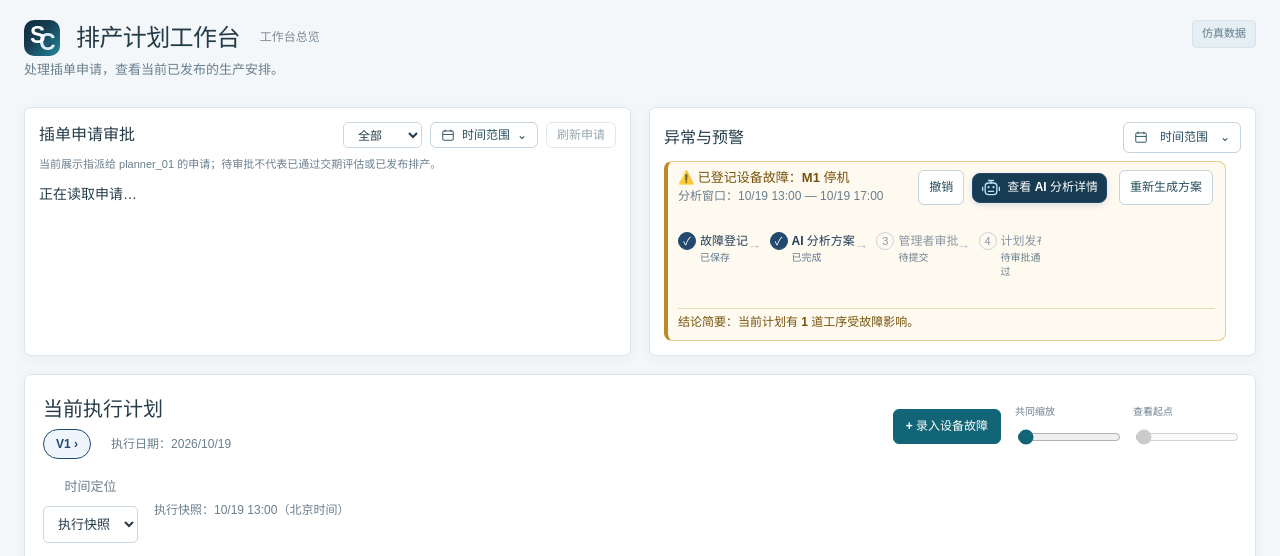
Test case: shows the saved analysis time and Trace for the same fault revision as the chain title
The width and height of the screenshot is (1280, 556).
Expected: the list item with aria-label "AI 分析方案：已完成" is shown, [770,232,868,266]
Expected: the list item with aria-label "管理者审批：待提交" is shown, [876,232,970,266]
Click the button "查看 AI 分析详情".
click(1040, 188)  # box [972,173,1107,203]
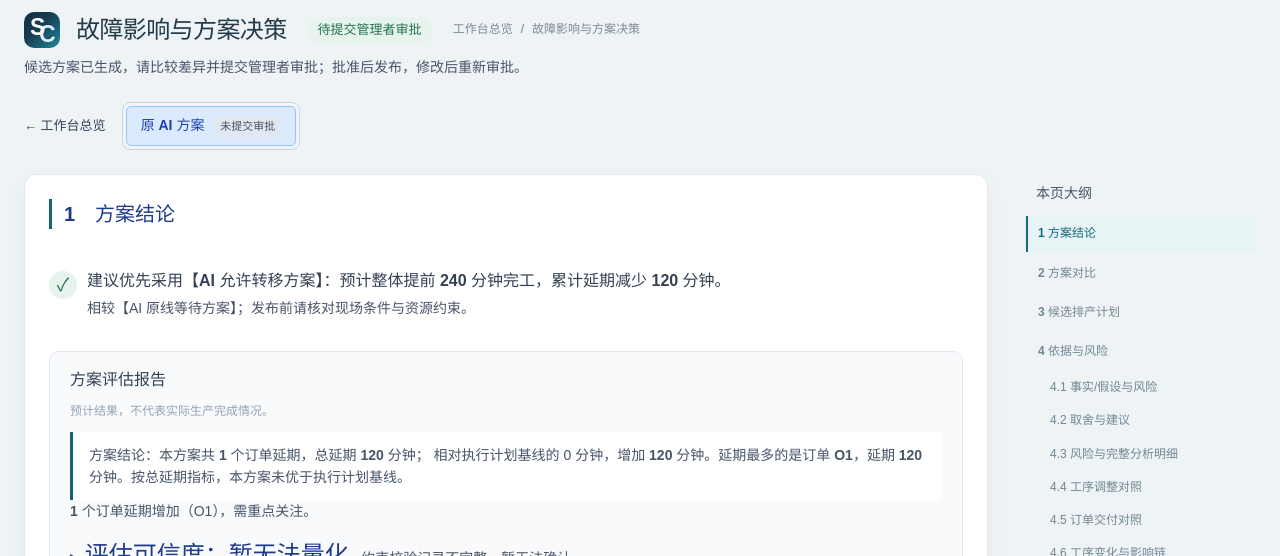
Expected: the heading "S C 故障影响与方案决策" is shown, [24,12,287,48]
Click the button "← 工作台总览".
click(65, 126)  # box [24,112,106,141]
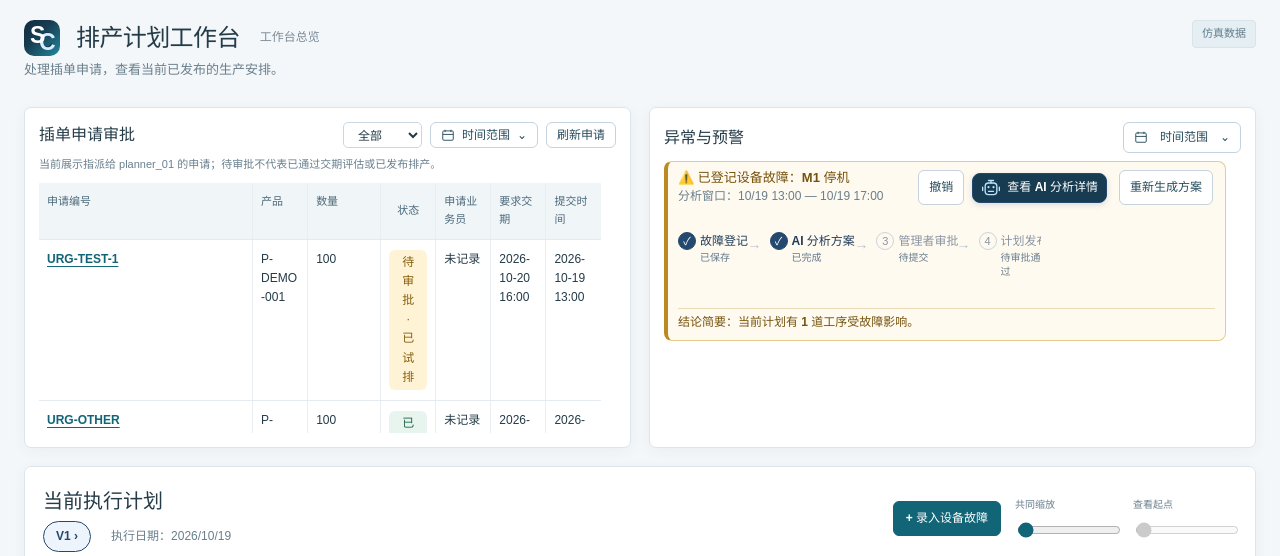
Expected: the heading "S C 排产计划工作台" is shown, [24,20,240,56]
